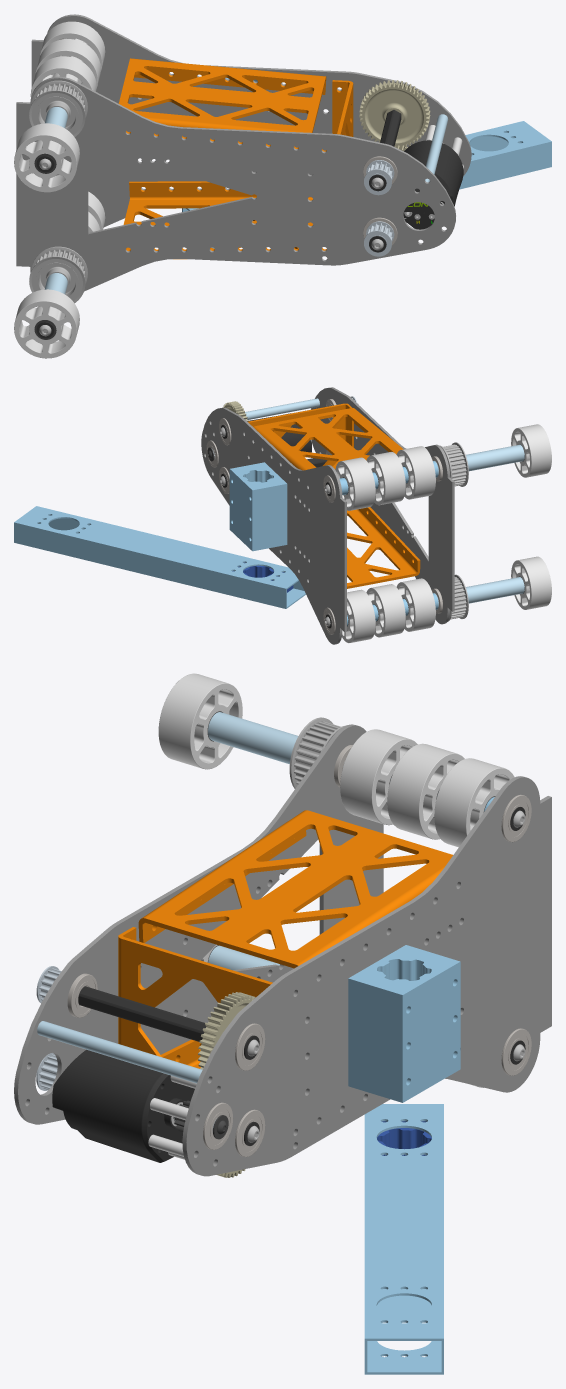
The picture shows the model from 3 angles, top to bottom: view 1: azimuth 30°, elevation 25°; view 2: azimuth 150°, elevation 25°; view 3: azimuth 270°, elevation 25°; orthographic projection. The views are drawn at different scales.
Visible parts, largest first — view 1: Algae plate, Side Rails (×2), Part 2, am-3950 2.25N OverMolded 375Hex Compliant Wheel V6 (×5), Tube 2"x1"x14", 30t 15mm Wide 1/2" Hex Bore Double Flange 5mm HTD Aluminum P (×2), 48t 20dp Aluminum 1/2" Hex Bore Pocketed Gear (WCP-0137), Kraken X60 Brushless Motor, Aluminum 15 Tooth HTD Pulley (TTB-0058) (×2), Part 1, Shaft, ROUND Spacer 5.125 in; view 2: am-3950 2.25N OverMolded 375Hex Compliant Wheel V6 (×8), Part 2, Tube 2"x1"x14", Side Rails (×2), Algae plate, Part 6, 3in wheel spacer (×2), 30t 15mm Wide 1/2" Hex Bore Double Flange 5mm HTD Aluminum P (×2), Part 1, ROUND Spacer 5.125 in, Kraken X60 Brushless Motor, MAX SPLINE 36 deg; view 3: Part 2, Algae plate, Side Rails, Tube 2"x1"x14", am-3950 2.25N OverMolded 375Hex Compliant Wheel V6 (×4), Part 6, Kraken X60 Brushless Motor, Part 1, 3in wheel spacer (×2), Shaft, ROUND Spacer 5.125 in, Thunderhex ID 1.125 OD Flanged Bearing (217-4006) (×3) (+3 smaller).
Part boxes in pixels (x1,y1,x2,y2): Algae plate: [16, 76, 455, 291]; Side Rails (×2): [118, 58, 326, 259]; Part 2: [31, 14, 471, 227]; am-3950 2.25N OverMolded 375Hex Compliant Wheel V6 (×5): [14, 21, 105, 358]; Tube 2"x1"x14": [182, 121, 551, 248]; 30t 15mm Wide 1/2" Hex Bore Double Flange 5mm HTD Aluminum P (×2): [29, 80, 87, 303]; 48t 20dp Aluminum 1/2" Hex Bore Pocketed Gear (WCP-0137): [359, 80, 430, 147]; Kraken X60 Brushless Motor: [403, 140, 463, 229]; Aluminum 15 Tooth HTD Pulley (TTB-0058) (×2): [364, 160, 394, 256]; Part 1: [322, 80, 353, 250]; Shaft: [369, 110, 401, 191]; ROUND Spacer 5.125 in: [425, 114, 448, 182]; am-3950 2.25N OverMolded 375Hex Compliant Wheel V6 (×8): [335, 424, 551, 643]; Part 2: [201, 407, 346, 644]; Tube 2"x1"x14": [14, 506, 305, 608]; Side Rails (×2): [253, 408, 420, 588]; Algae plate: [311, 387, 454, 624]; Part 6: [229, 462, 287, 551]; 3in wheel spacer (×2): [466, 444, 524, 603]; 30t 15mm Wide 1/2" Hex Bore Double Flange 5mm HTD Aluminum P (×2): [439, 442, 468, 621]; Part 1: [248, 403, 353, 466]; ROUND Spacer 5.125 in: [245, 398, 319, 419]; Kraken X60 Brushless Motor: [249, 413, 311, 452]; MAX SPLINE 36 deg: [232, 562, 293, 592]; Part 2: [182, 776, 551, 1176]; Algae plate: [14, 724, 383, 1124]; Side Rails: [138, 810, 452, 968]; Tube 2"x1"x14": [364, 1104, 443, 1374]; am-3950 2.25N OverMolded 375Hex Compliant Wheel V6 (×4): [158, 673, 514, 847]; Part 6: [348, 945, 460, 1102]; Kraken X60 Brushless Motor: [52, 1049, 194, 1162]; Part 1: [118, 927, 272, 1056]; 3in wheel spacer (×2): [208, 712, 298, 970]; Shaft: [78, 986, 259, 1059]; ROUND Spacer 5.125 in: [37, 1021, 202, 1083]; Thunderhex ID 1.125 OD Flanged Bearing (217-4006) (×3): [235, 794, 531, 1075].
Size of the model in its own units: 0.6165 by 0.2223 by 0.3445.
